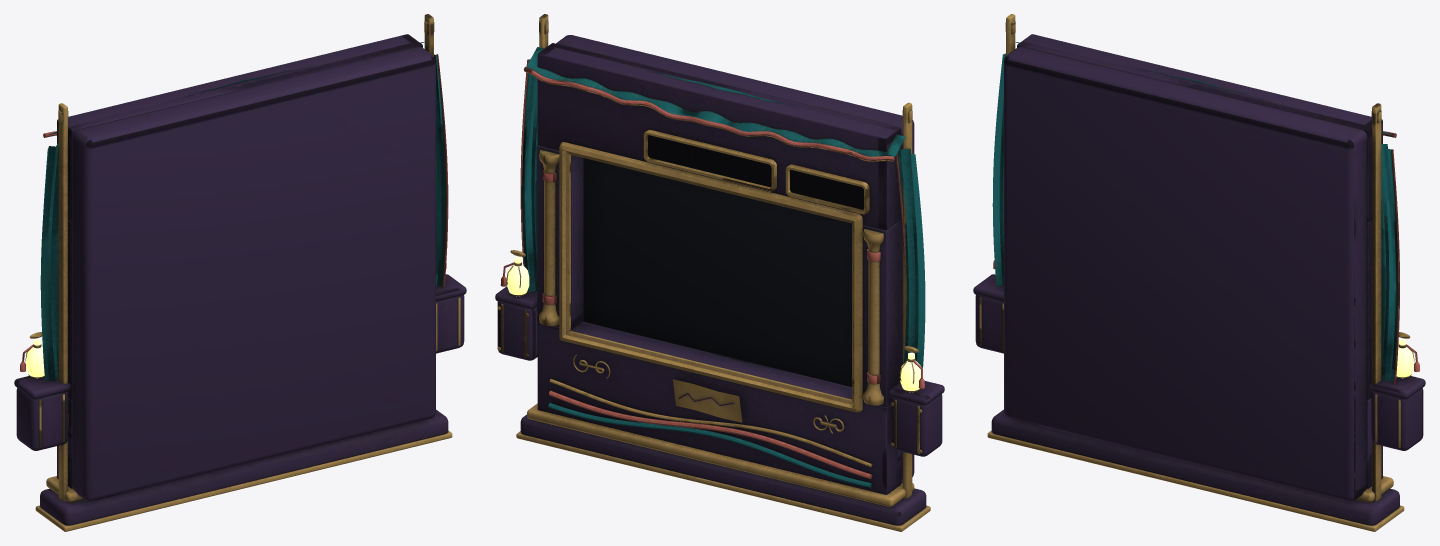
The picture shows the model from 3 angles, left to right: view 1: azimuth 30°, elevation 25°; view 2: azimuth 150°, elevation 25°; view 3: azimuth 330°, elevation 25°; orthographic projection.
Parts seen in each view (by area): view 1: Violet_travel_leather, Warm_brushed_brass, Canopy_teal_woven_silk, Coral_dyed_silk, Perfume_amber_glow; view 2: Violet_travel_leather, Uniform_ink_display_face, Warm_brushed_brass, Canopy_teal_woven_silk, Coral_dyed_silk, Perfume_amber_glow; view 3: Violet_travel_leather, Warm_brushed_brass, Canopy_teal_woven_silk, Coral_dyed_silk.
Boxes of the visible parts, x1=… form: Violet_travel_leather: x1=14, y1=34, x2=466, y2=525; Warm_brushed_brass: x1=25, y1=14, x2=460, y2=531; Canopy_teal_woven_silk: x1=40, y1=42, x2=445, y2=382; Coral_dyed_silk: x1=20, y1=54, x2=448, y2=426; Perfume_amber_glow: x1=26, y1=338, x2=44, y2=378; Violet_travel_leather: x1=495, y1=35, x2=944, y2=525; Uniform_ink_display_face: x1=583, y1=135, x2=863, y2=386; Warm_brushed_brass: x1=497, y1=14, x2=930, y2=531; Canopy_teal_woven_silk: x1=522, y1=47, x2=925, y2=487; Coral_dyed_silk: x1=500, y1=59, x2=924, y2=478; Perfume_amber_glow: x1=507, y1=256, x2=920, y2=392; Violet_travel_leather: x1=973, y1=34, x2=1425, y2=525; Warm_brushed_brass: x1=979, y1=14, x2=1414, y2=531; Canopy_teal_woven_silk: x1=992, y1=42, x2=1397, y2=381; Coral_dyed_silk: x1=993, y1=131, x2=1419, y2=384.
Bounding box in the file's own units: 10.51 × 9.6 × 1.51.
Materials: 6 (5 with a texture image).
